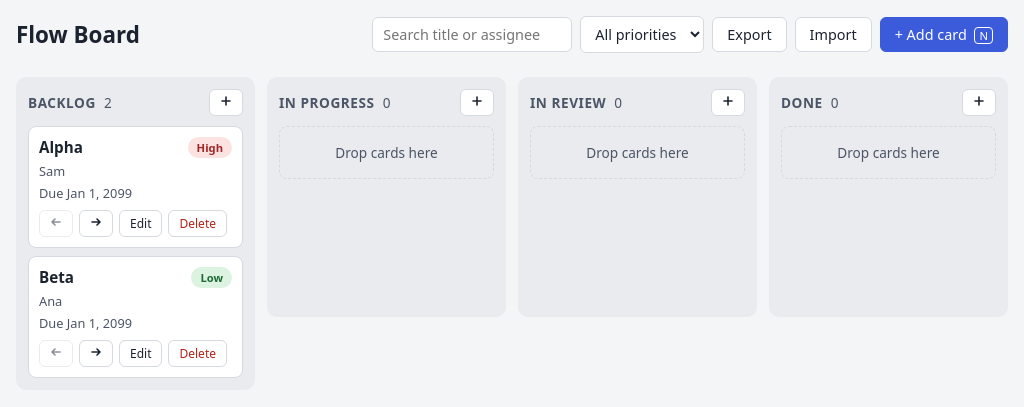
Test: search and filter › filters by text and priority and shows an empty message
This screenshot has width=1024, height=407.
In the search field named "Search cards": x=472, y=34 [372,17,572,52], type "ana"
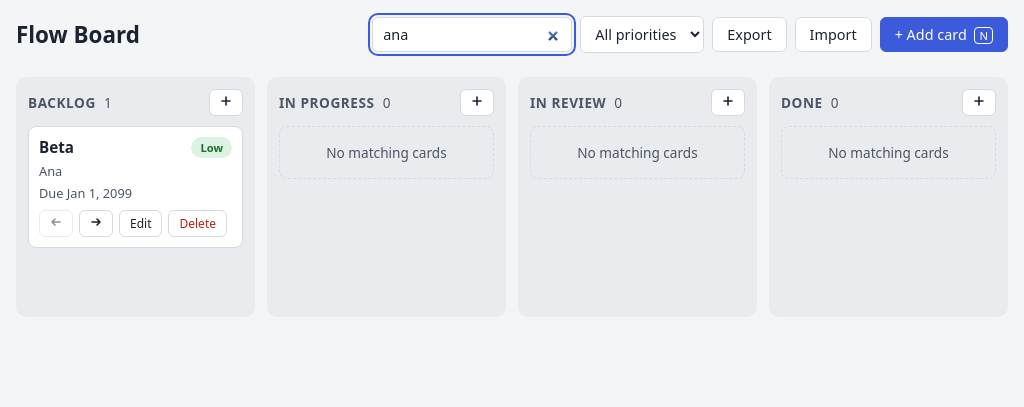
Check: the heading "Beta" is shown, box [39,137,74,157]
Check: the heading "Alpha" is gone
Clear the search field named "Search cards": x=472, y=34 [372,17,572,52]
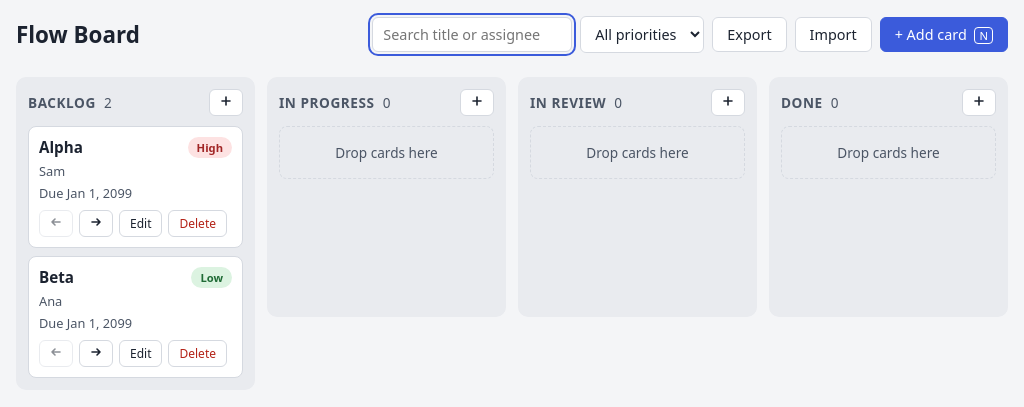
Select "High" in the dropdown named "Filter by priority": x=642, y=34 [580,16,704,53]
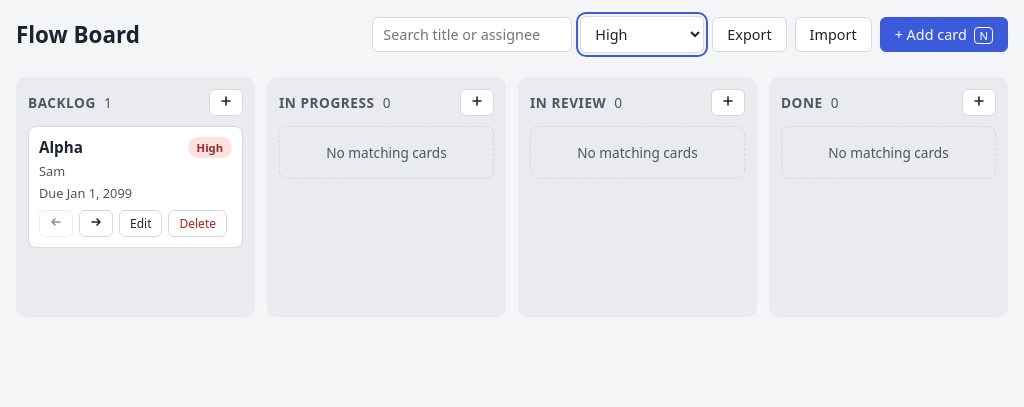
Check: the heading "Alpha" is shown, box [39,137,83,157]
Check: the heading "Beta" is gone
